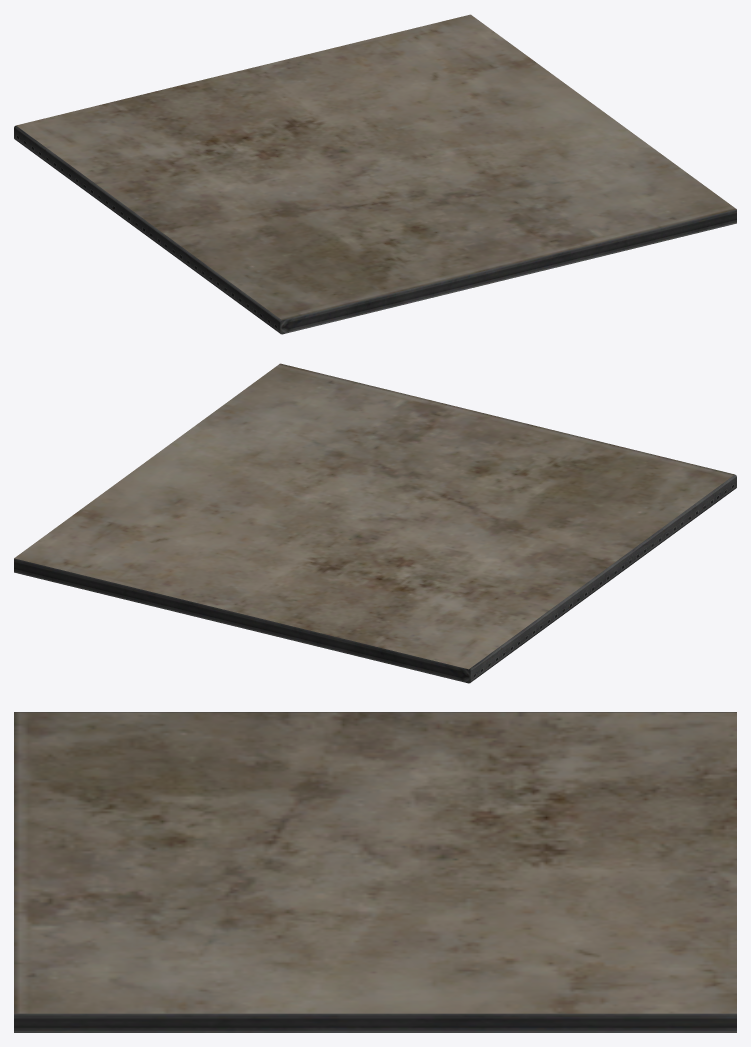
The model's file is 02_06_elevator_hatch.dae.
The picture shows the model from 3 angles, top to bottom: view 1: azimuth 30°, elevation 25°; view 2: azimuth 150°, elevation 25°; view 3: azimuth 270°, elevation 25°; orthographic projection. The views are drawn at different scales.
Visible parts, largest first — view 1: polySurface102; view 2: polySurface102; view 3: polySurface102.
Boxes of the visible parts, x1,y1,x2,y2 form: polySurface102: (14, 14, 736, 334); polySurface102: (14, 363, 736, 683); polySurface102: (14, 712, 736, 1032).
Size of the model in its own units: 1.17 by 0.0345 by 1.18.
